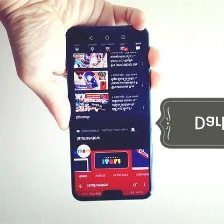phone: (61, 23, 156, 205)
